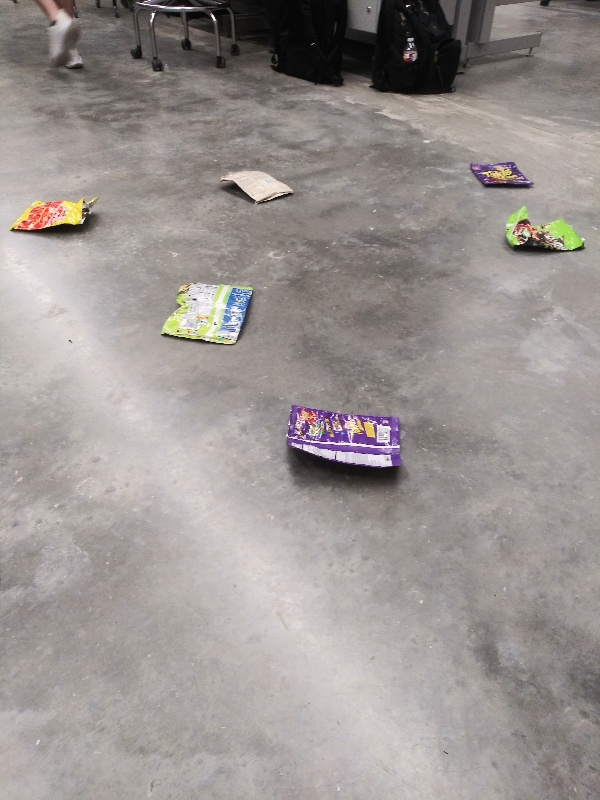bag: (279, 401, 410, 481), (157, 278, 261, 347), (495, 201, 589, 258), (1, 193, 106, 235), (215, 162, 302, 206), (463, 158, 539, 192)
bottle: (395, 34, 422, 64)
